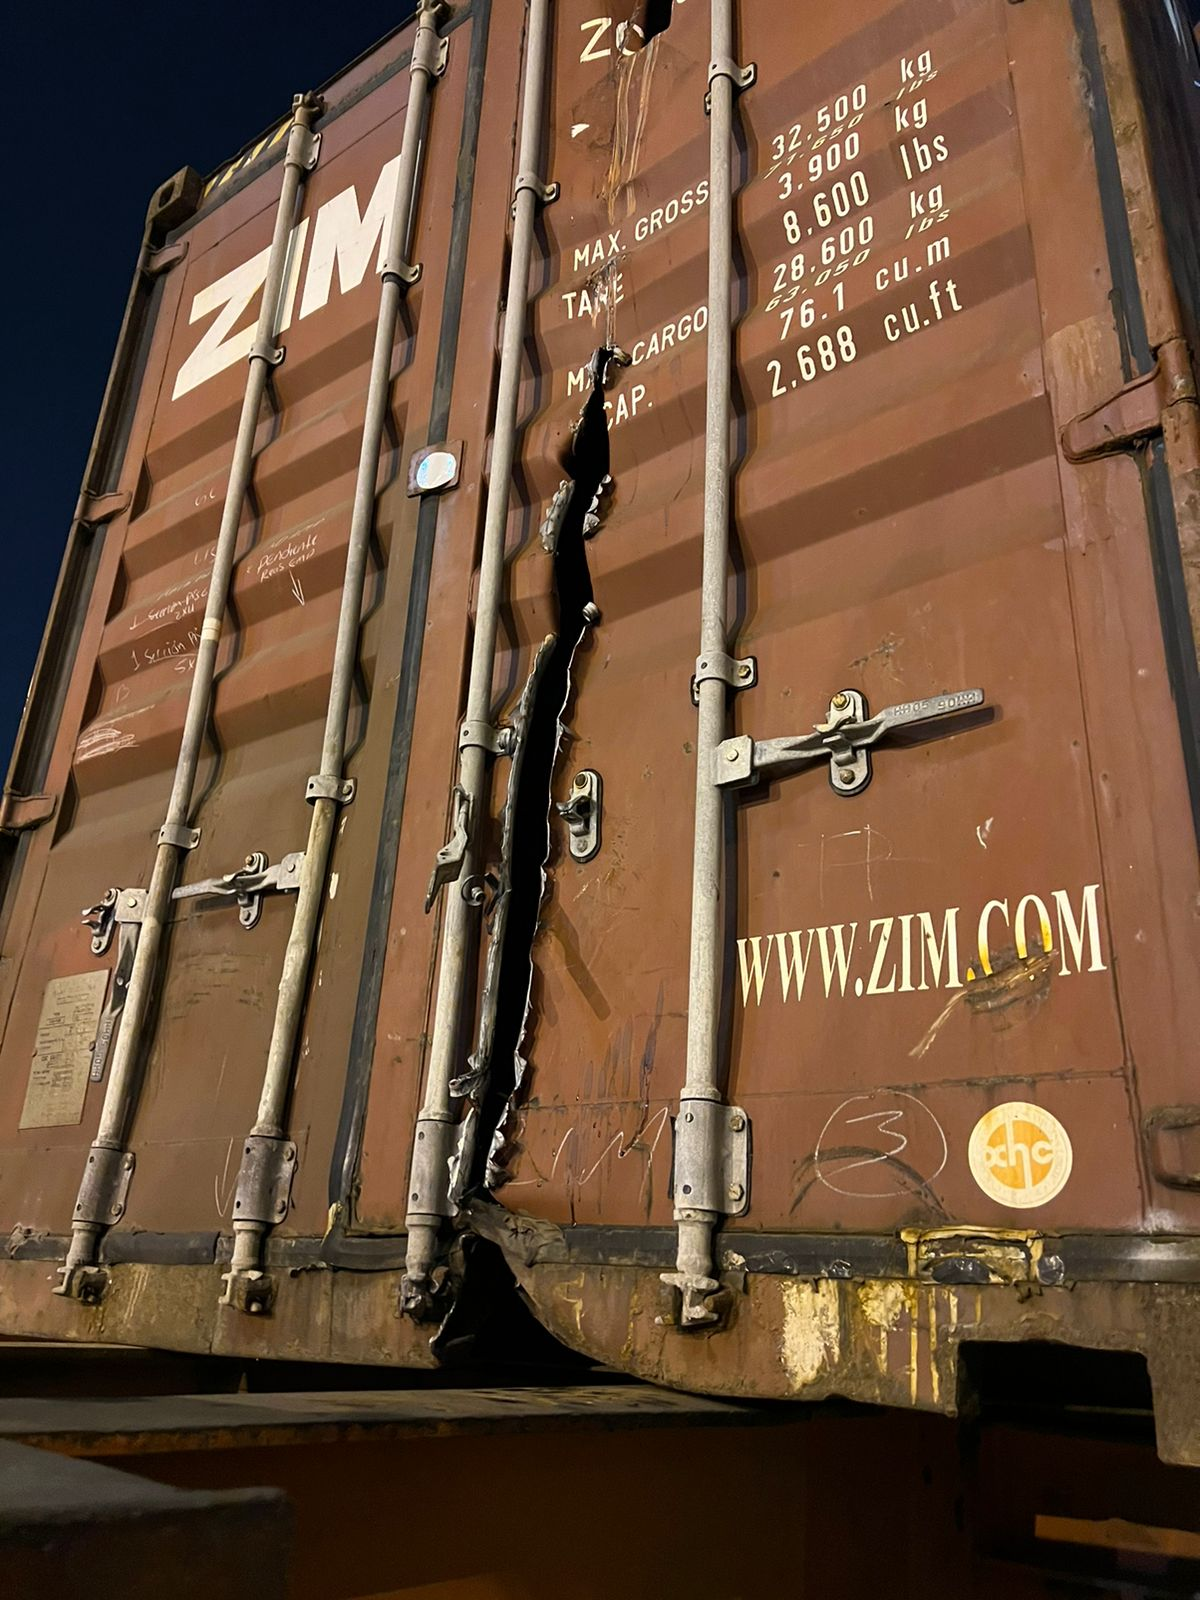cut: (459, 333, 672, 1356)
